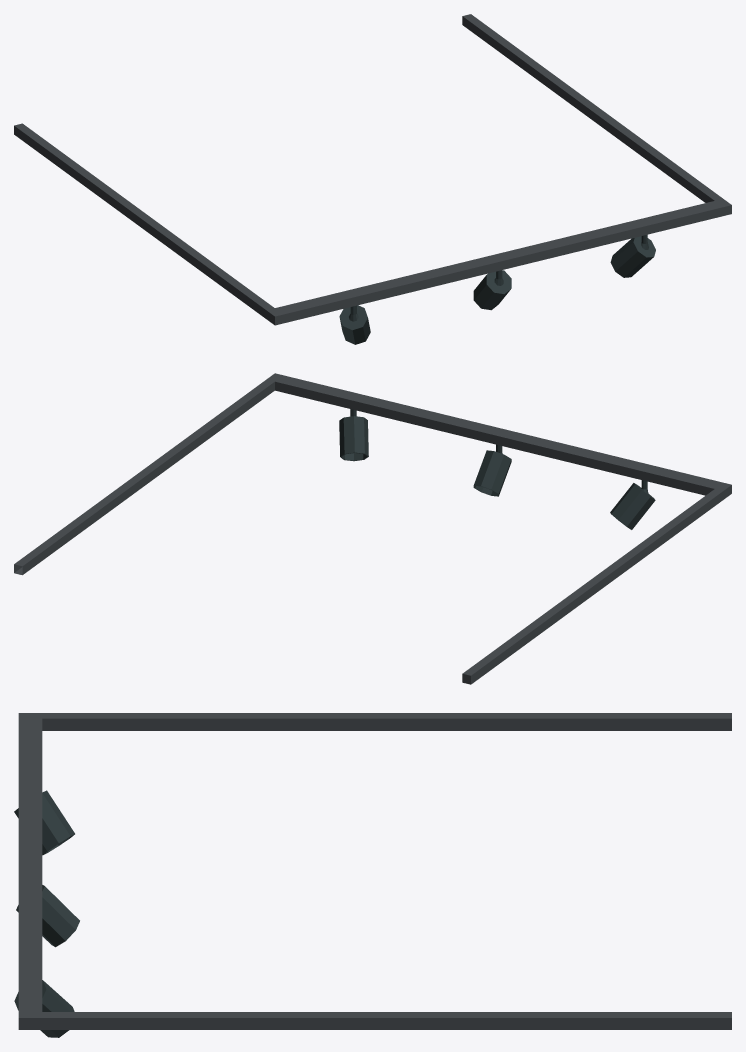
The model's file is LightWallBig.glb.
3 views of the same model, one above another, from view 1: azimuth 30°, elevation 25°; view 2: azimuth 150°, elevation 25°; view 3: azimuth 270°, elevation 25° (orthographic). The views are drawn at different scales.
Visible parts, largest first — view 1: LightWallBig; view 2: LightWallBig; view 3: LightWallBig.
Boxes of the visible parts, <box> form: LightWallBig: <box>14,14,731,344</box>; LightWallBig: <box>14,373,731,684</box>; LightWallBig: <box>14,713,731,1037</box>.
Size of the model in its own units: 1.66 by 0.2023 by 1.66.
Materials: 1 (1 with a texture image).
